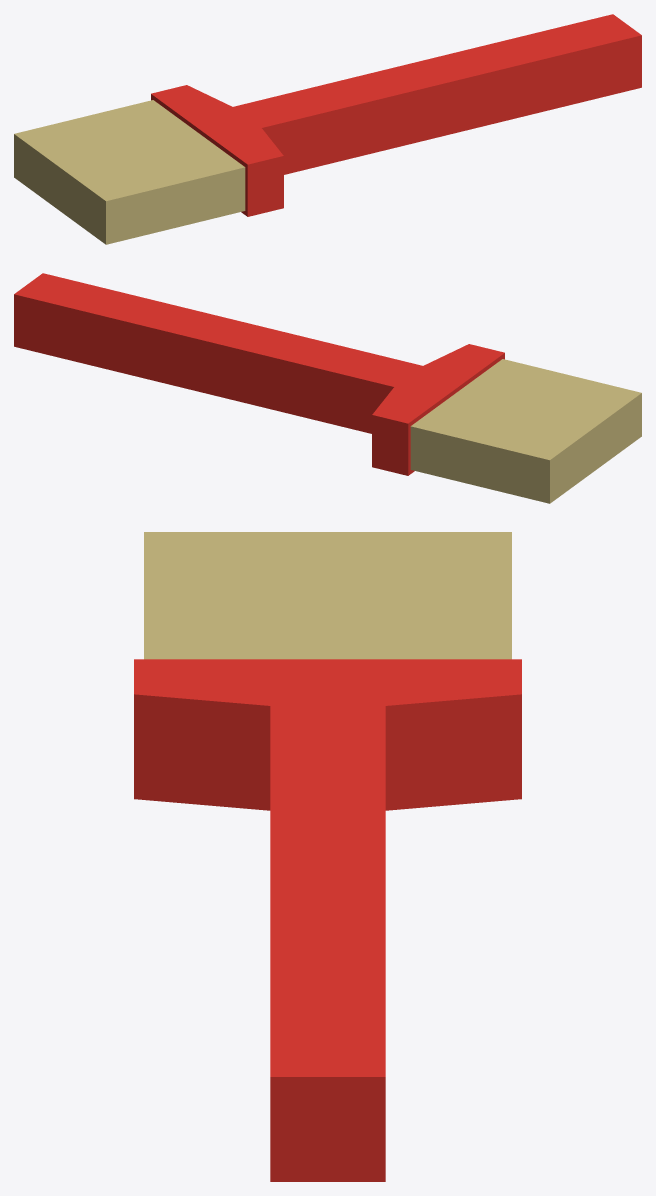
The model's file is paintbrush1.fbx.
3 renders of one model, top to bottom at view 1: azimuth 30°, elevation 25°; view 2: azimuth 150°, elevation 25°; view 3: azimuth 270°, elevation 25°, orthographic. The views are drawn at different scales.
Parts seen in each view (by area): view 1: Cube; view 2: Cube; view 3: Cube.
Boxes of the visible parts, x1,y1,x2,y2 form: Cube: [14, 14, 641, 244]; Cube: [14, 273, 641, 503]; Cube: [134, 532, 521, 1181].
Size of the model in its own units: 93.65 by 8.26 by 27.71.
